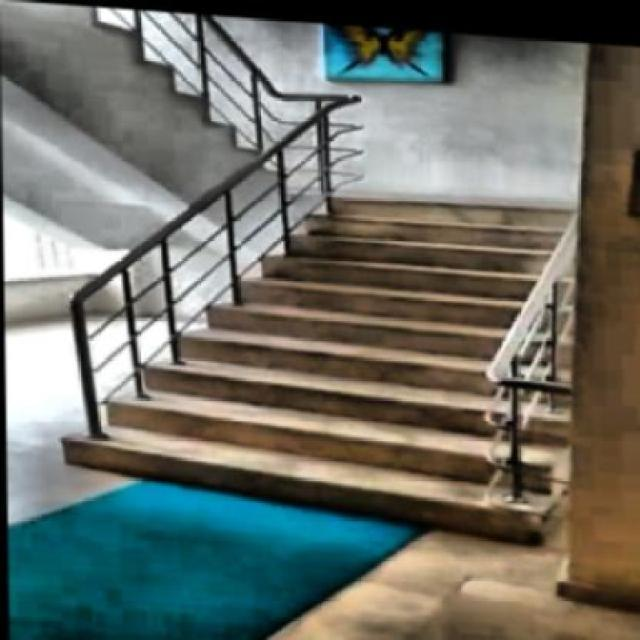stair: (66, 160, 592, 531)
